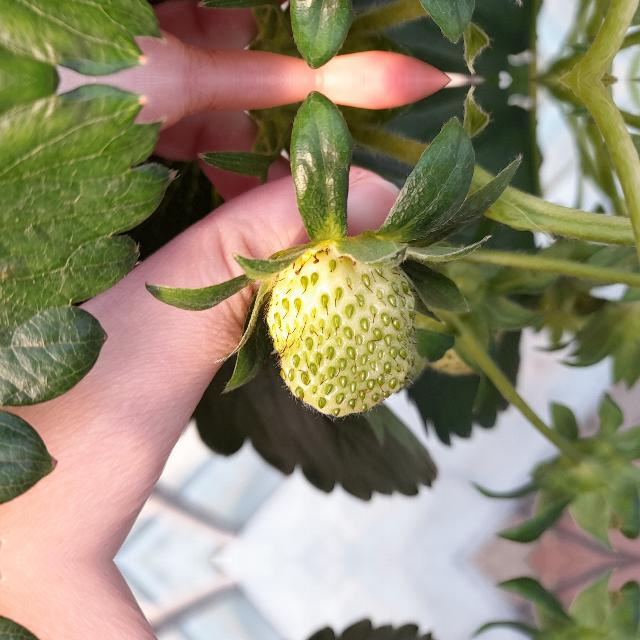Health_25: (261, 240, 421, 422)
